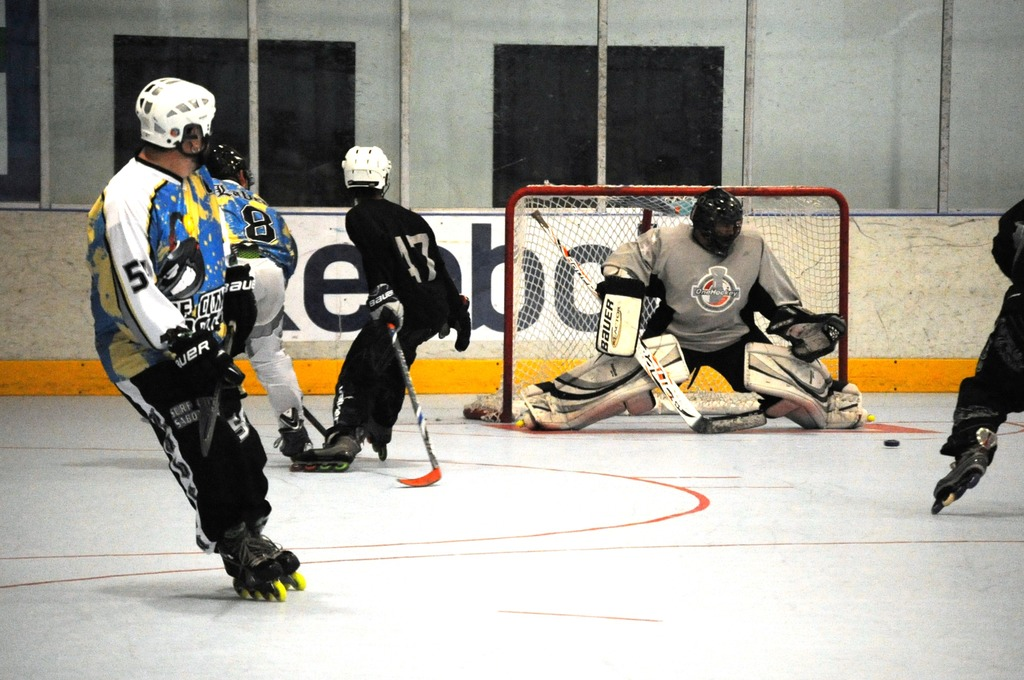Person: (90, 76, 1023, 555)
